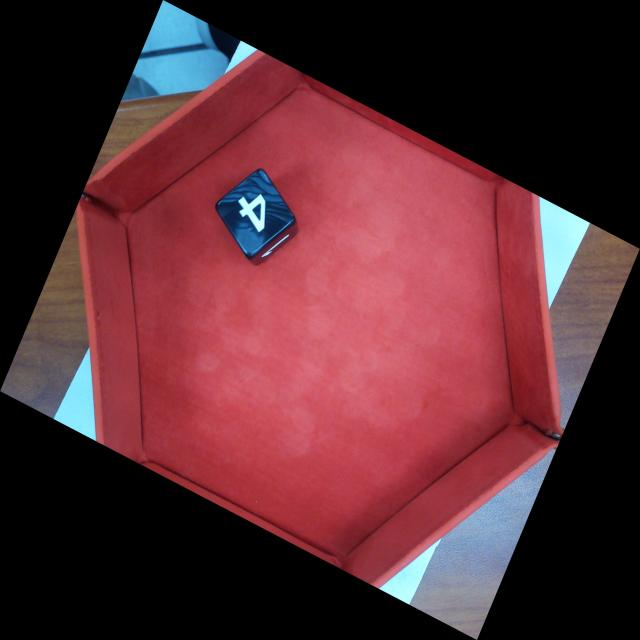dice: (211, 163, 298, 263)
